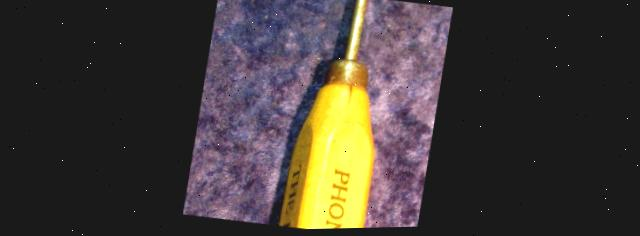ice pick: (275, 0, 400, 231)
